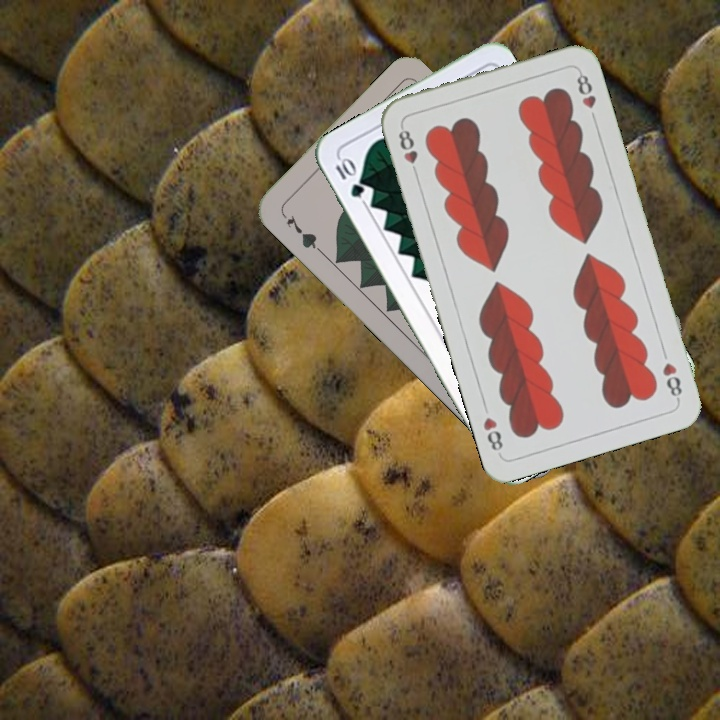G10: (331, 153, 367, 201)
G7: (278, 209, 324, 255)
H8: (394, 121, 421, 179), (658, 358, 685, 404)
